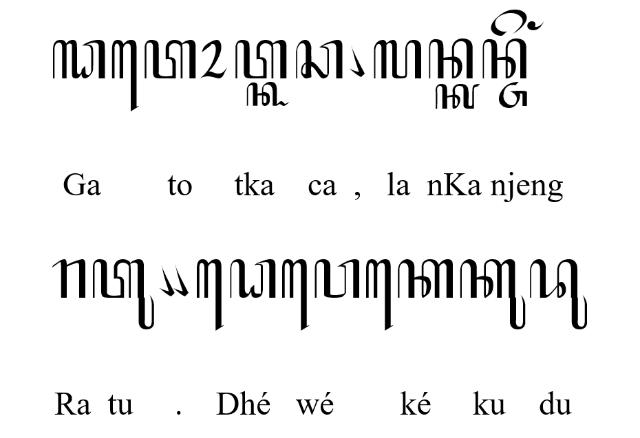G: (52, 38, 106, 80)
K: (434, 82, 480, 110)
_j: (498, 81, 528, 109)
_k: (246, 81, 290, 107)
c: (296, 38, 344, 80)
dh: (229, 258, 277, 300)
du: (528, 258, 588, 330)
e: (490, 8, 526, 38)
e1: (365, 258, 393, 332), (111, 39, 139, 111), (196, 260, 224, 332), (282, 258, 308, 332)
k: (398, 258, 454, 300)
kom: (348, 46, 364, 78), (172, 266, 188, 296), (160, 266, 174, 296)
ku: (460, 258, 526, 330)
l: (373, 39, 423, 79)
n: (428, 38, 474, 80), (481, 38, 527, 80)
ng: (528, 22, 544, 30)
o: (201, 38, 227, 80)
r: (51, 258, 87, 300)
t: (235, 38, 288, 80), (144, 38, 196, 80)
tu: (92, 259, 156, 331)
w: (314, 258, 361, 300)
